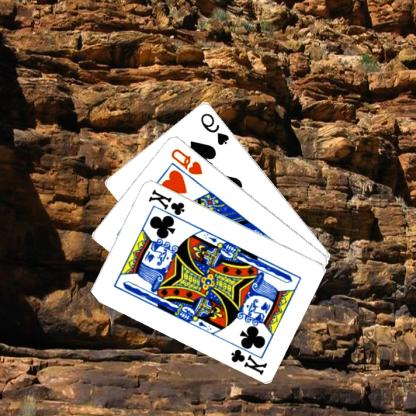9S: (200, 110, 232, 146)
KC: (147, 186, 188, 222), (230, 340, 270, 376)
QH: (170, 145, 206, 176)
